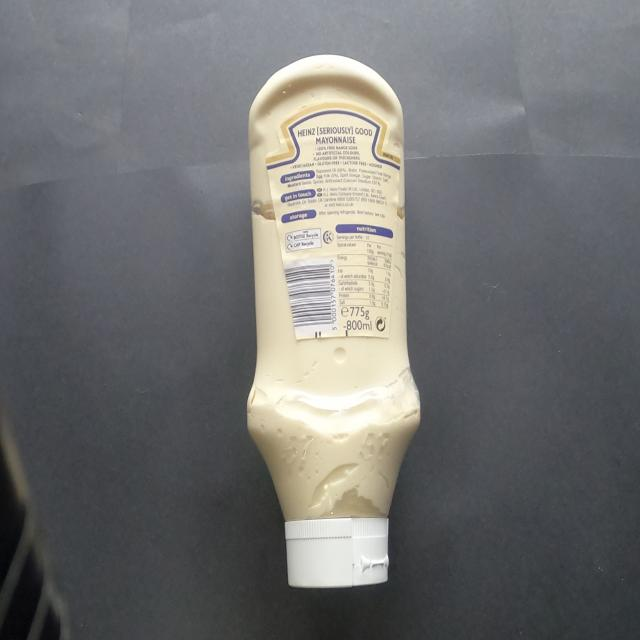Mayonnaise: (226, 34, 441, 606)
